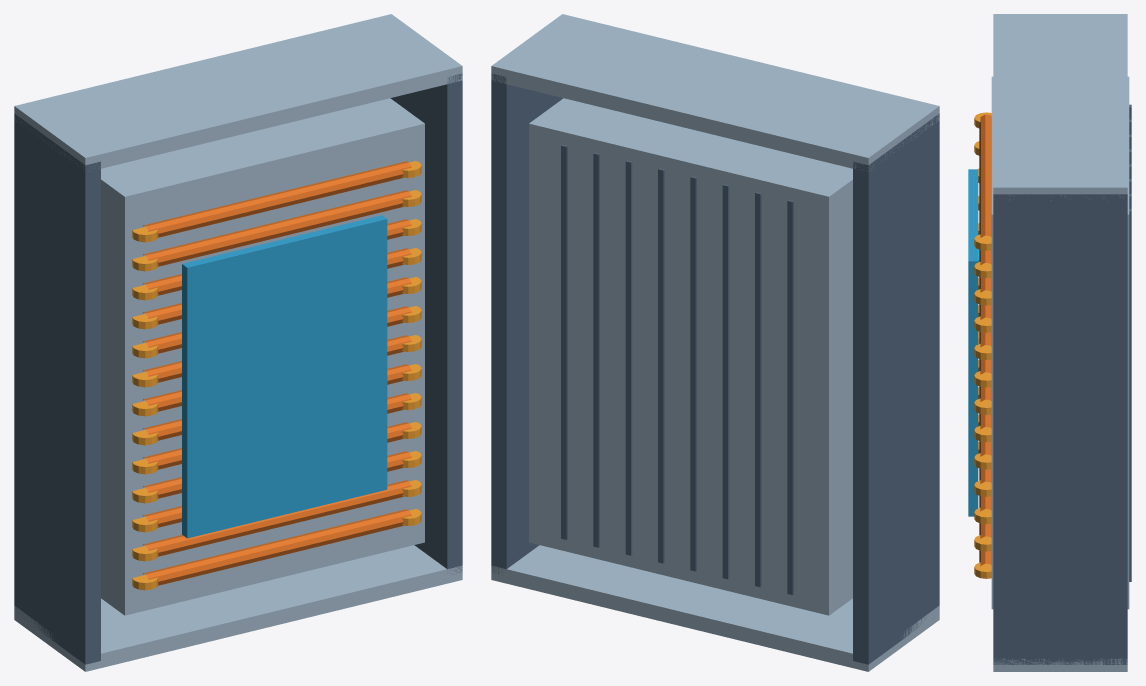
The model's file is 44_L88_HumidityCondensingHeatExchanger.fbx.
The picture shows the model from 3 angles, left to right: view 1: azimuth 30°, elevation 25°; view 2: azimuth 150°, elevation 25°; view 3: azimuth 270°, elevation 25°; orthographic projection. The views are drawn at different scales.
Parts seen in each view (by area): view 1: L87_HumidityCondensingHeatExchanger_Part_0001, L87_HumidityCondensingHeatExchanger_Part_0000, L87_HumidityCondensingHeatExchanger_Part_0005, L87_HumidityCondensingHeatExchanger_Part_0002, L87_HumidityCondensingHeatExchanger_Part_0003, L87_HumidityCondensingHeatExchanger_Part_0004; view 2: L87_HumidityCondensingHeatExchanger_Part_0001, L87_HumidityCondensingHeatExchanger_Part_0000; view 3: L87_HumidityCondensingHeatExchanger_Part_0000, L87_HumidityCondensingHeatExchanger_Part_0001, L87_HumidityCondensingHeatExchanger_Part_0002, L87_HumidityCondensingHeatExchanger_Part_0005, L87_HumidityCondensingHeatExchanger_Part_0003, L87_HumidityCondensingHeatExchanger_Part_0004.
Part boxes in pixels (left/top/right/bottom): L87_HumidityCondensingHeatExchanger_Part_0001: left=14, top=14, right=462, bottom=671; L87_HumidityCondensingHeatExchanger_Part_0000: left=14, top=73, right=462, bottom=664; L87_HumidityCondensingHeatExchanger_Part_0005: left=182, top=215, right=387, bottom=538; L87_HumidityCondensingHeatExchanger_Part_0002: left=143, top=161, right=411, bottom=585; L87_HumidityCondensingHeatExchanger_Part_0003: left=132, top=248, right=421, bottom=590; L87_HumidityCondensingHeatExchanger_Part_0004: left=132, top=161, right=421, bottom=300; L87_HumidityCondensingHeatExchanger_Part_0001: left=491, top=14, right=939, bottom=671; L87_HumidityCondensingHeatExchanger_Part_0000: left=491, top=73, right=939, bottom=664; L87_HumidityCondensingHeatExchanger_Part_0000: left=993, top=104, right=1131, bottom=664; L87_HumidityCondensingHeatExchanger_Part_0001: left=991, top=14, right=1129, bottom=671; L87_HumidityCondensingHeatExchanger_Part_0002: left=979, top=114, right=991, bottom=565; L87_HumidityCondensingHeatExchanger_Part_0005: left=968, top=169, right=978, bottom=516; L87_HumidityCondensingHeatExchanger_Part_0003: left=974, top=196, right=991, bottom=578; L87_HumidityCondensingHeatExchanger_Part_0004: left=974, top=112, right=991, bottom=305.
Size of the model in its own units: 245 by 319 by 97.5.
